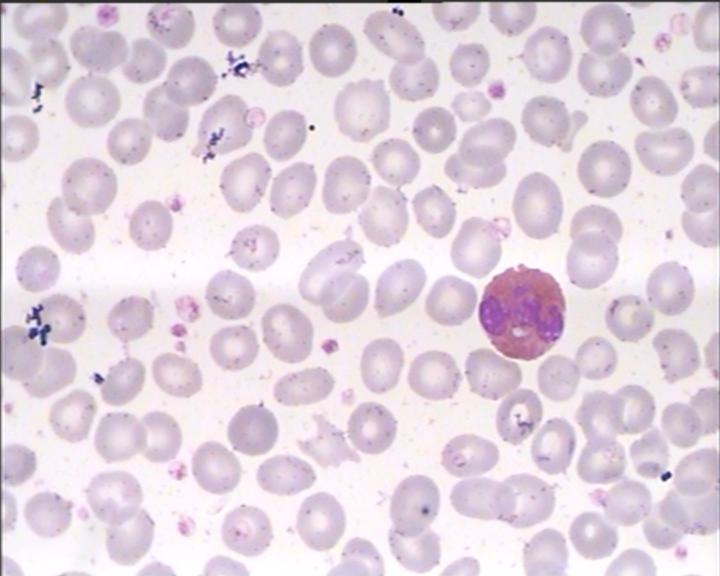eosi: (475, 261, 572, 367)
